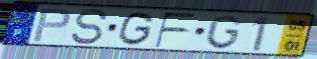1: (250, 14, 270, 53)
F: (153, 11, 199, 49)
G: (204, 14, 243, 51), (116, 11, 156, 47)
P: (31, 8, 73, 43)
S: (69, 8, 110, 46)
